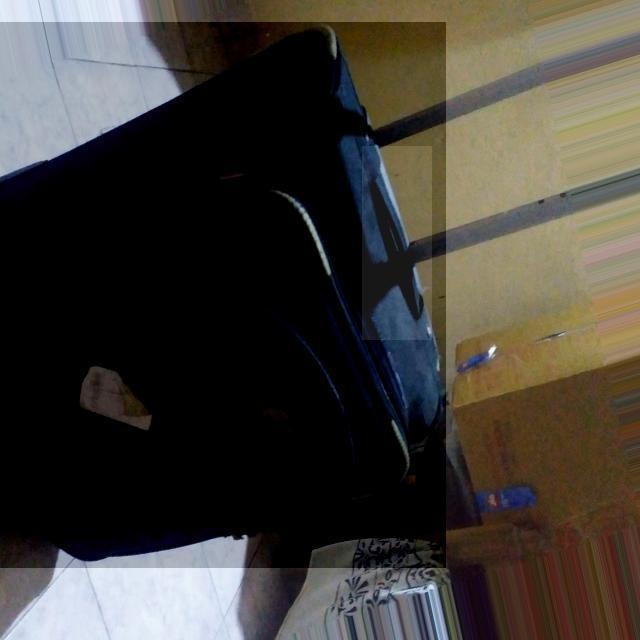Suitcase: (0, 22, 640, 563)
